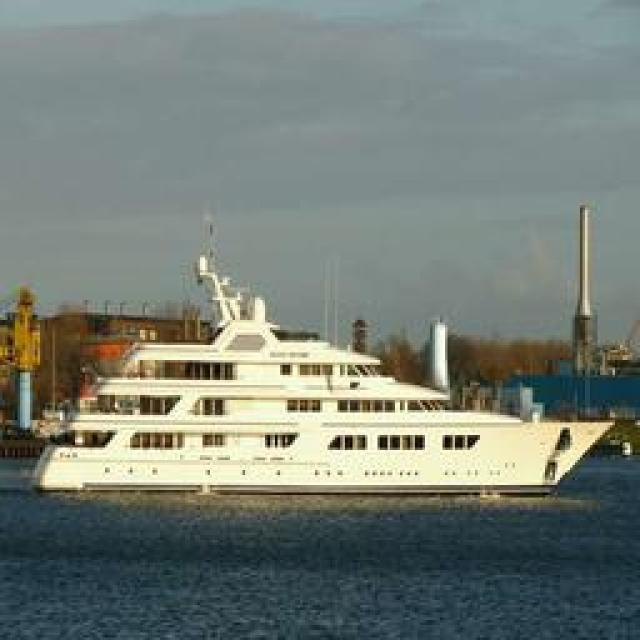ship2: (31, 211, 618, 497)
